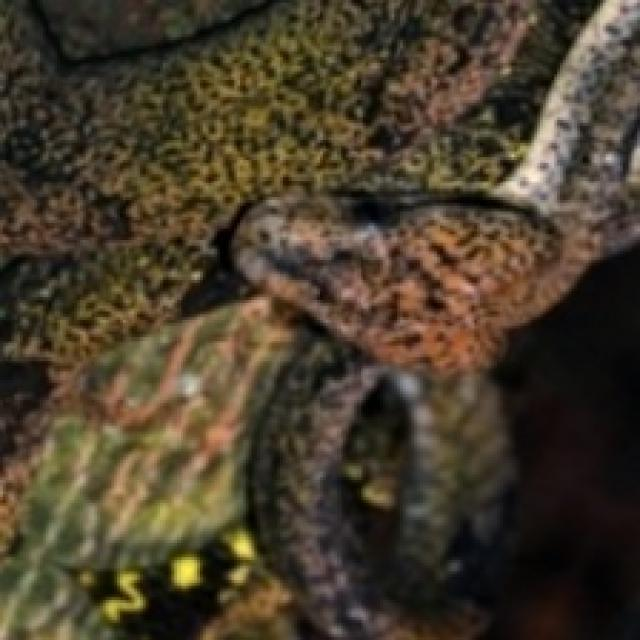dog-toothed cat snake: (0, 0, 637, 637), (229, 0, 637, 637)
